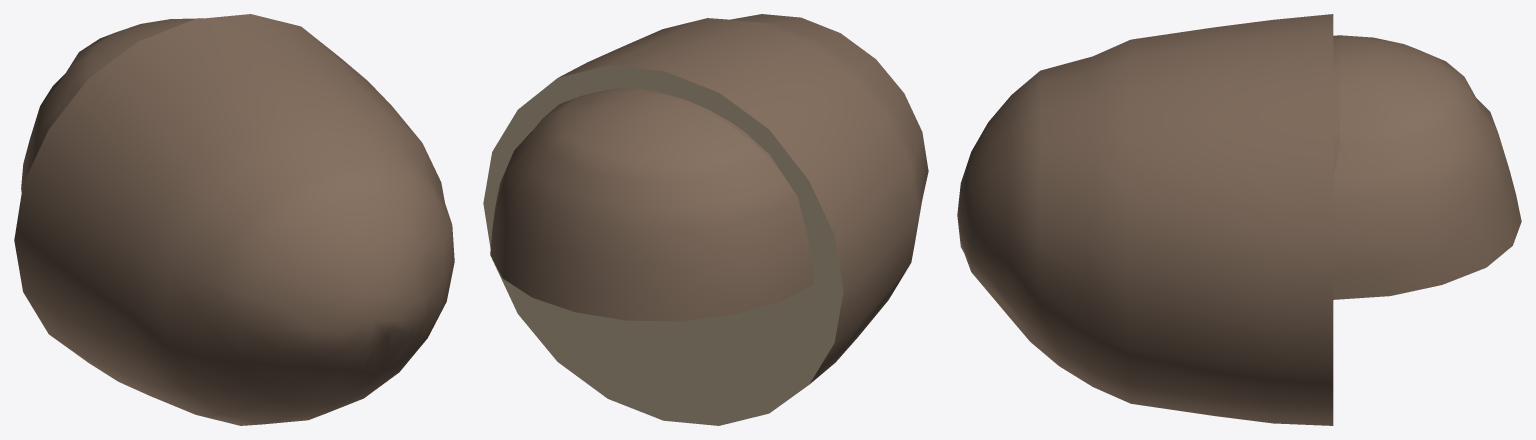
The model's file is Potato1A.fbx.
The picture shows the model from 3 angles, left to right: view 1: azimuth 30°, elevation 25°; view 2: azimuth 150°, elevation 25°; view 3: azimuth 270°, elevation 25°; orthographic projection. The views are drawn at different scales.
Parts seen in each view (by area): view 1: PotatoPeice1A, PotatoPeice2A; view 2: PotatoPeice1A, PotatoPeice2A, PotatoPeice2B; view 3: PotatoPeice1A, PotatoPeice2A, PotatoPeice2B.
Part boxes in pixels (left/top/right/bottom): PotatoPeice1A: left=14, top=14, right=454, bottom=425; PotatoPeice2A: left=21, top=18, right=202, bottom=191; PotatoPeice1A: left=483, top=14, right=928, bottom=425; PotatoPeice2A: left=490, top=89, right=814, bottom=321; PotatoPeice2B: left=561, top=87, right=784, bottom=177; PotatoPeice1A: left=957, top=14, right=1333, bottom=425; PotatoPeice2A: left=1333, top=35, right=1521, bottom=299; PotatoPeice2B: left=1333, top=35, right=1339, bottom=176.
Size of the model in its own units: 2.39 by 2.22 by 3.05.
